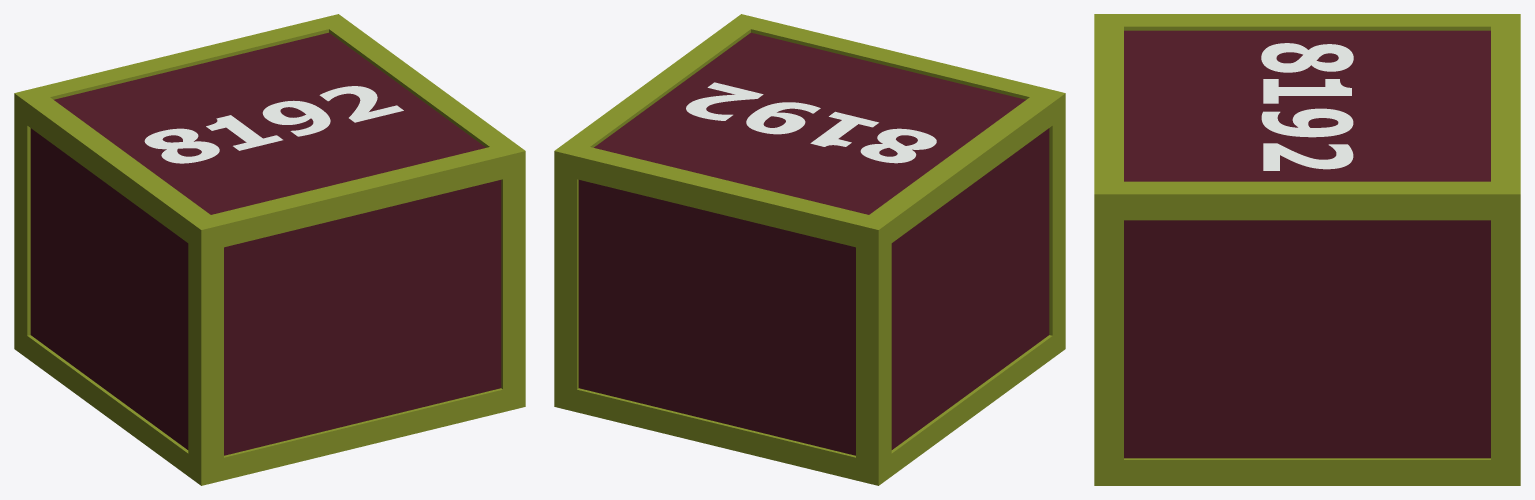
File: 8192Prefab.fbx
3 renders of one model, left to right at view 1: azimuth 30°, elevation 25°; view 2: azimuth 150°, elevation 25°; view 3: azimuth 270°, elevation 25°, orthographic. The views are drawn at different scales.
Visible parts, largest first — view 1: Text.010; view 2: Text.010; view 3: Text.010.
Part boxes in pixels (<box>): Text.010: <box>14,14,525,485</box>; Text.010: <box>554,14,1065,485</box>; Text.010: <box>1094,14,1520,485</box>.
Size of the model in its own units: 194 by 146 by 194.
